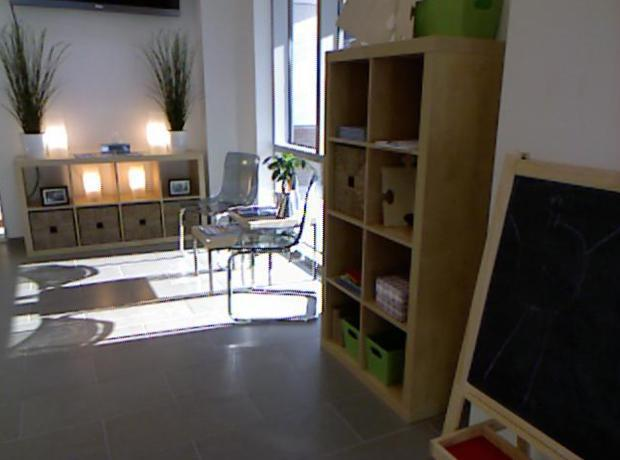Matera: (1, 22, 68, 157), (141, 21, 200, 152)
